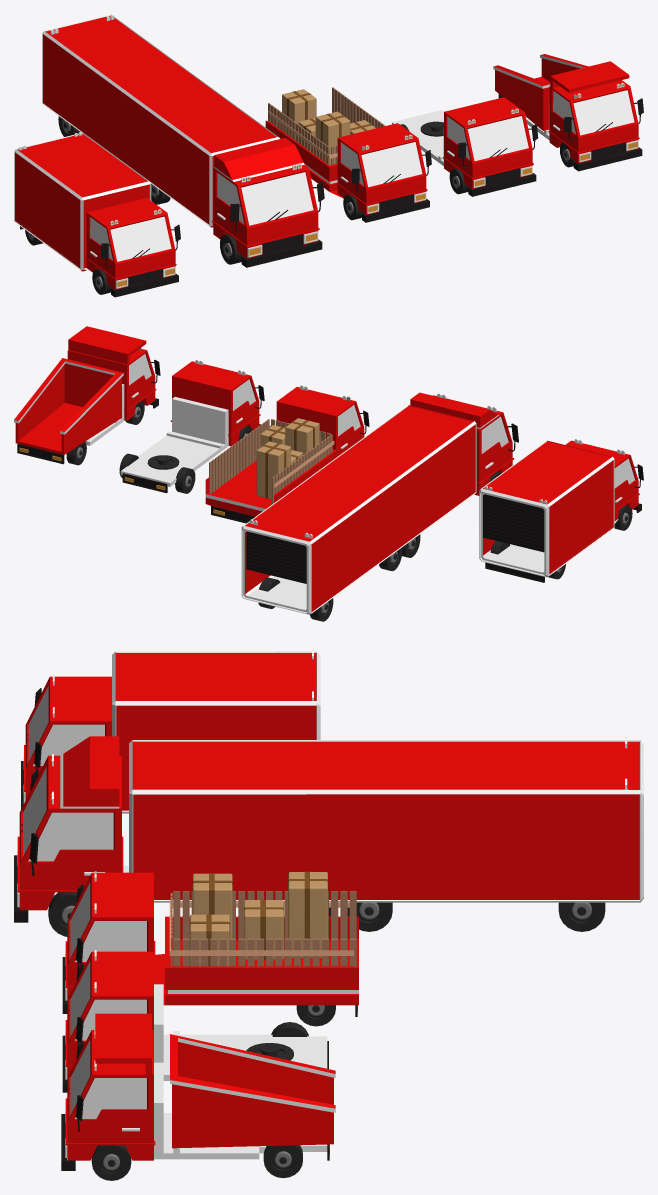
The picture shows the model from 3 angles, top to bottom: view 1: azimuth 30°, elevation 25°; view 2: azimuth 150°, elevation 25°; view 3: azimuth 270°, elevation 25°; orthographic projection. The views are drawn at different scales.
Parts seen in each view (by area): view 1: polySurface376, polySurface14, pCube419, polySurface347, pCube418; view 2: polySurface376, polySurface14, polySurface347, pCube419, pCube418; view 3: polySurface376, polySurface347, pCube419, polySurface14, pCube418.
Boxes of the visible parts, box(x1,y1,x2,y2) form: polySurface376: box(42, 14, 324, 267); polySurface14: box(14, 132, 180, 297); pCube419: box(265, 87, 431, 222); polySurface347: box(493, 54, 643, 171); pCube418: box(392, 97, 538, 196); polySurface376: box(241, 392, 518, 621); polySurface14: box(479, 439, 643, 582); polySurface347: box(14, 326, 160, 465); pCube419: box(205, 385, 369, 523); pCube418: box(119, 359, 264, 493); polySurface376: box(14, 736, 643, 936); polySurface347: box(61, 1013, 335, 1180); pCube419: box(62, 871, 358, 1026); polySurface14: box(21, 650, 320, 813); pCube418: box(62, 950, 328, 1092).
Size of what is drawn, in the model's own units: 16 by 2.7 by 10.33.
